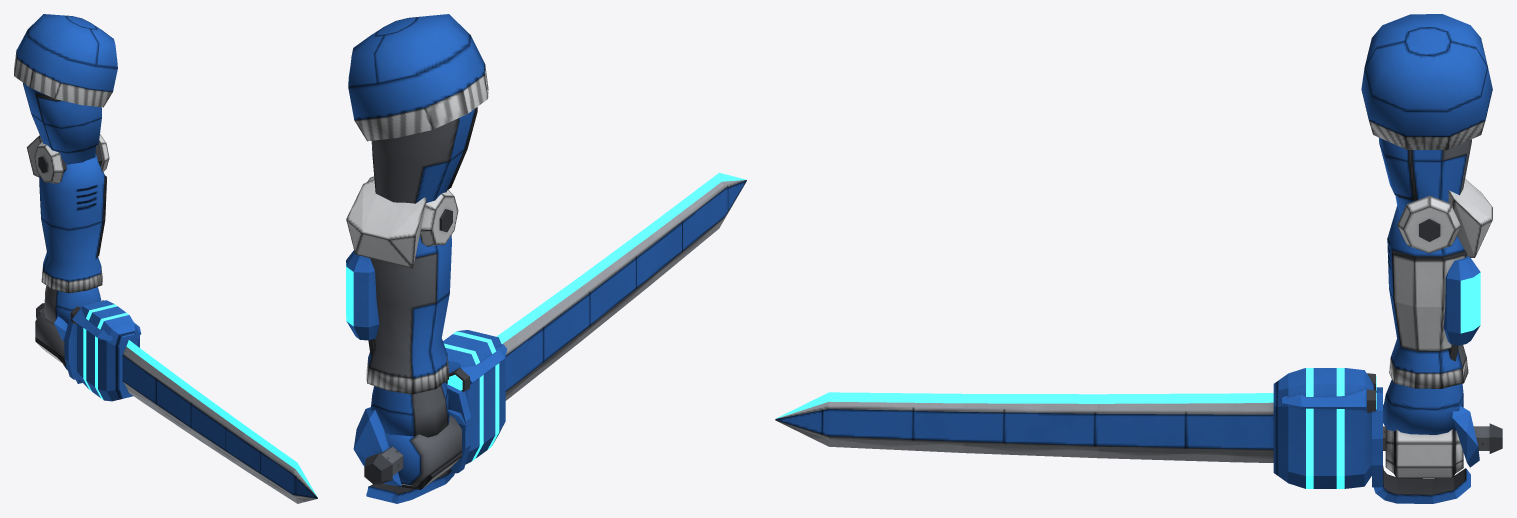
Rendered from RightIonHeavySwordArmX.glb.
The picture shows the model from 3 angles, left to right: view 1: azimuth 30°, elevation 25°; view 2: azimuth 150°, elevation 25°; view 3: azimuth 270°, elevation 25°; orthographic projection. The views are drawn at different scales.
Visible parts, largest first — view 1: RightIonHeavySwordArmX_Fist, RightIonHeavySwordArmX_Upper, RightIonHeavySwordArmX_Fore; view 2: RightIonHeavySwordArmX_Fist, RightIonHeavySwordArmX_Upper, RightIonHeavySwordArmX_Fore; view 3: RightIonHeavySwordArmX_Fist, RightIonHeavySwordArmX_Upper, RightIonHeavySwordArmX_Fore.
Boxes of the visible parts, x1=… form: RightIonHeavySwordArmX_Fist: x1=35, y1=285, x2=317, y2=503; RightIonHeavySwordArmX_Upper: x1=14, y1=14, x2=117, y2=164; RightIonHeavySwordArmX_Fore: x1=26, y1=134, x2=109, y2=293; RightIonHeavySwordArmX_Fist: x1=353, y1=172, x2=746, y2=503; RightIonHeavySwordArmX_Upper: x1=348, y1=14, x2=488, y2=203; RightIonHeavySwordArmX_Fore: x1=346, y1=176, x2=458, y2=394; RightIonHeavySwordArmX_Fist: x1=775, y1=368, x2=1502, y2=503; RightIonHeavySwordArmX_Upper: x1=1361, y1=14, x2=1492, y2=212; RightIonHeavySwordArmX_Fore: x1=1387, y1=179, x2=1492, y2=388.
Bounding box in the file's own units: 4.12 × 15.75 × 22.4.
6 materials, 5 textured.
